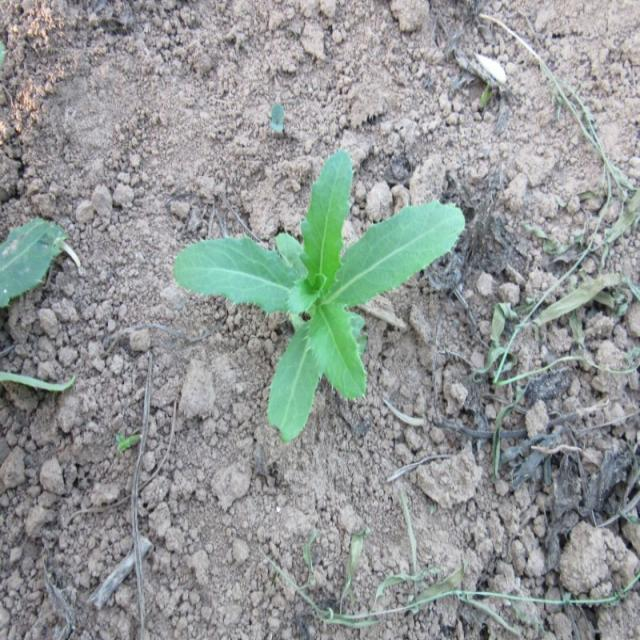cs: (174, 146, 467, 444)
